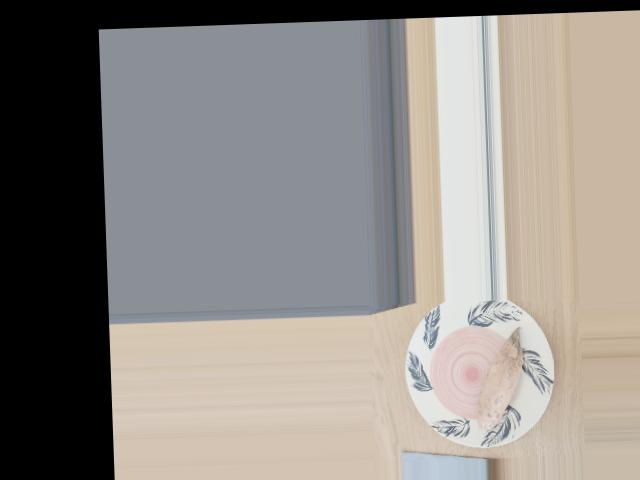sweet_potato: (470, 337, 525, 424)
